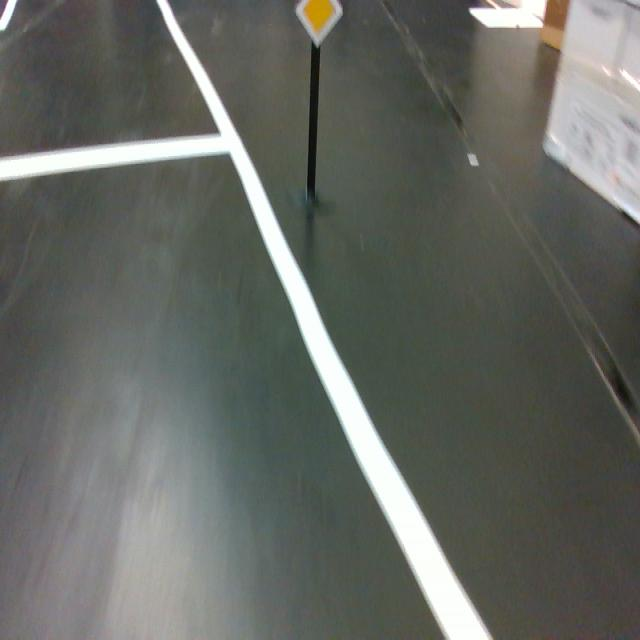priority-sign: (293, 0, 344, 49)
